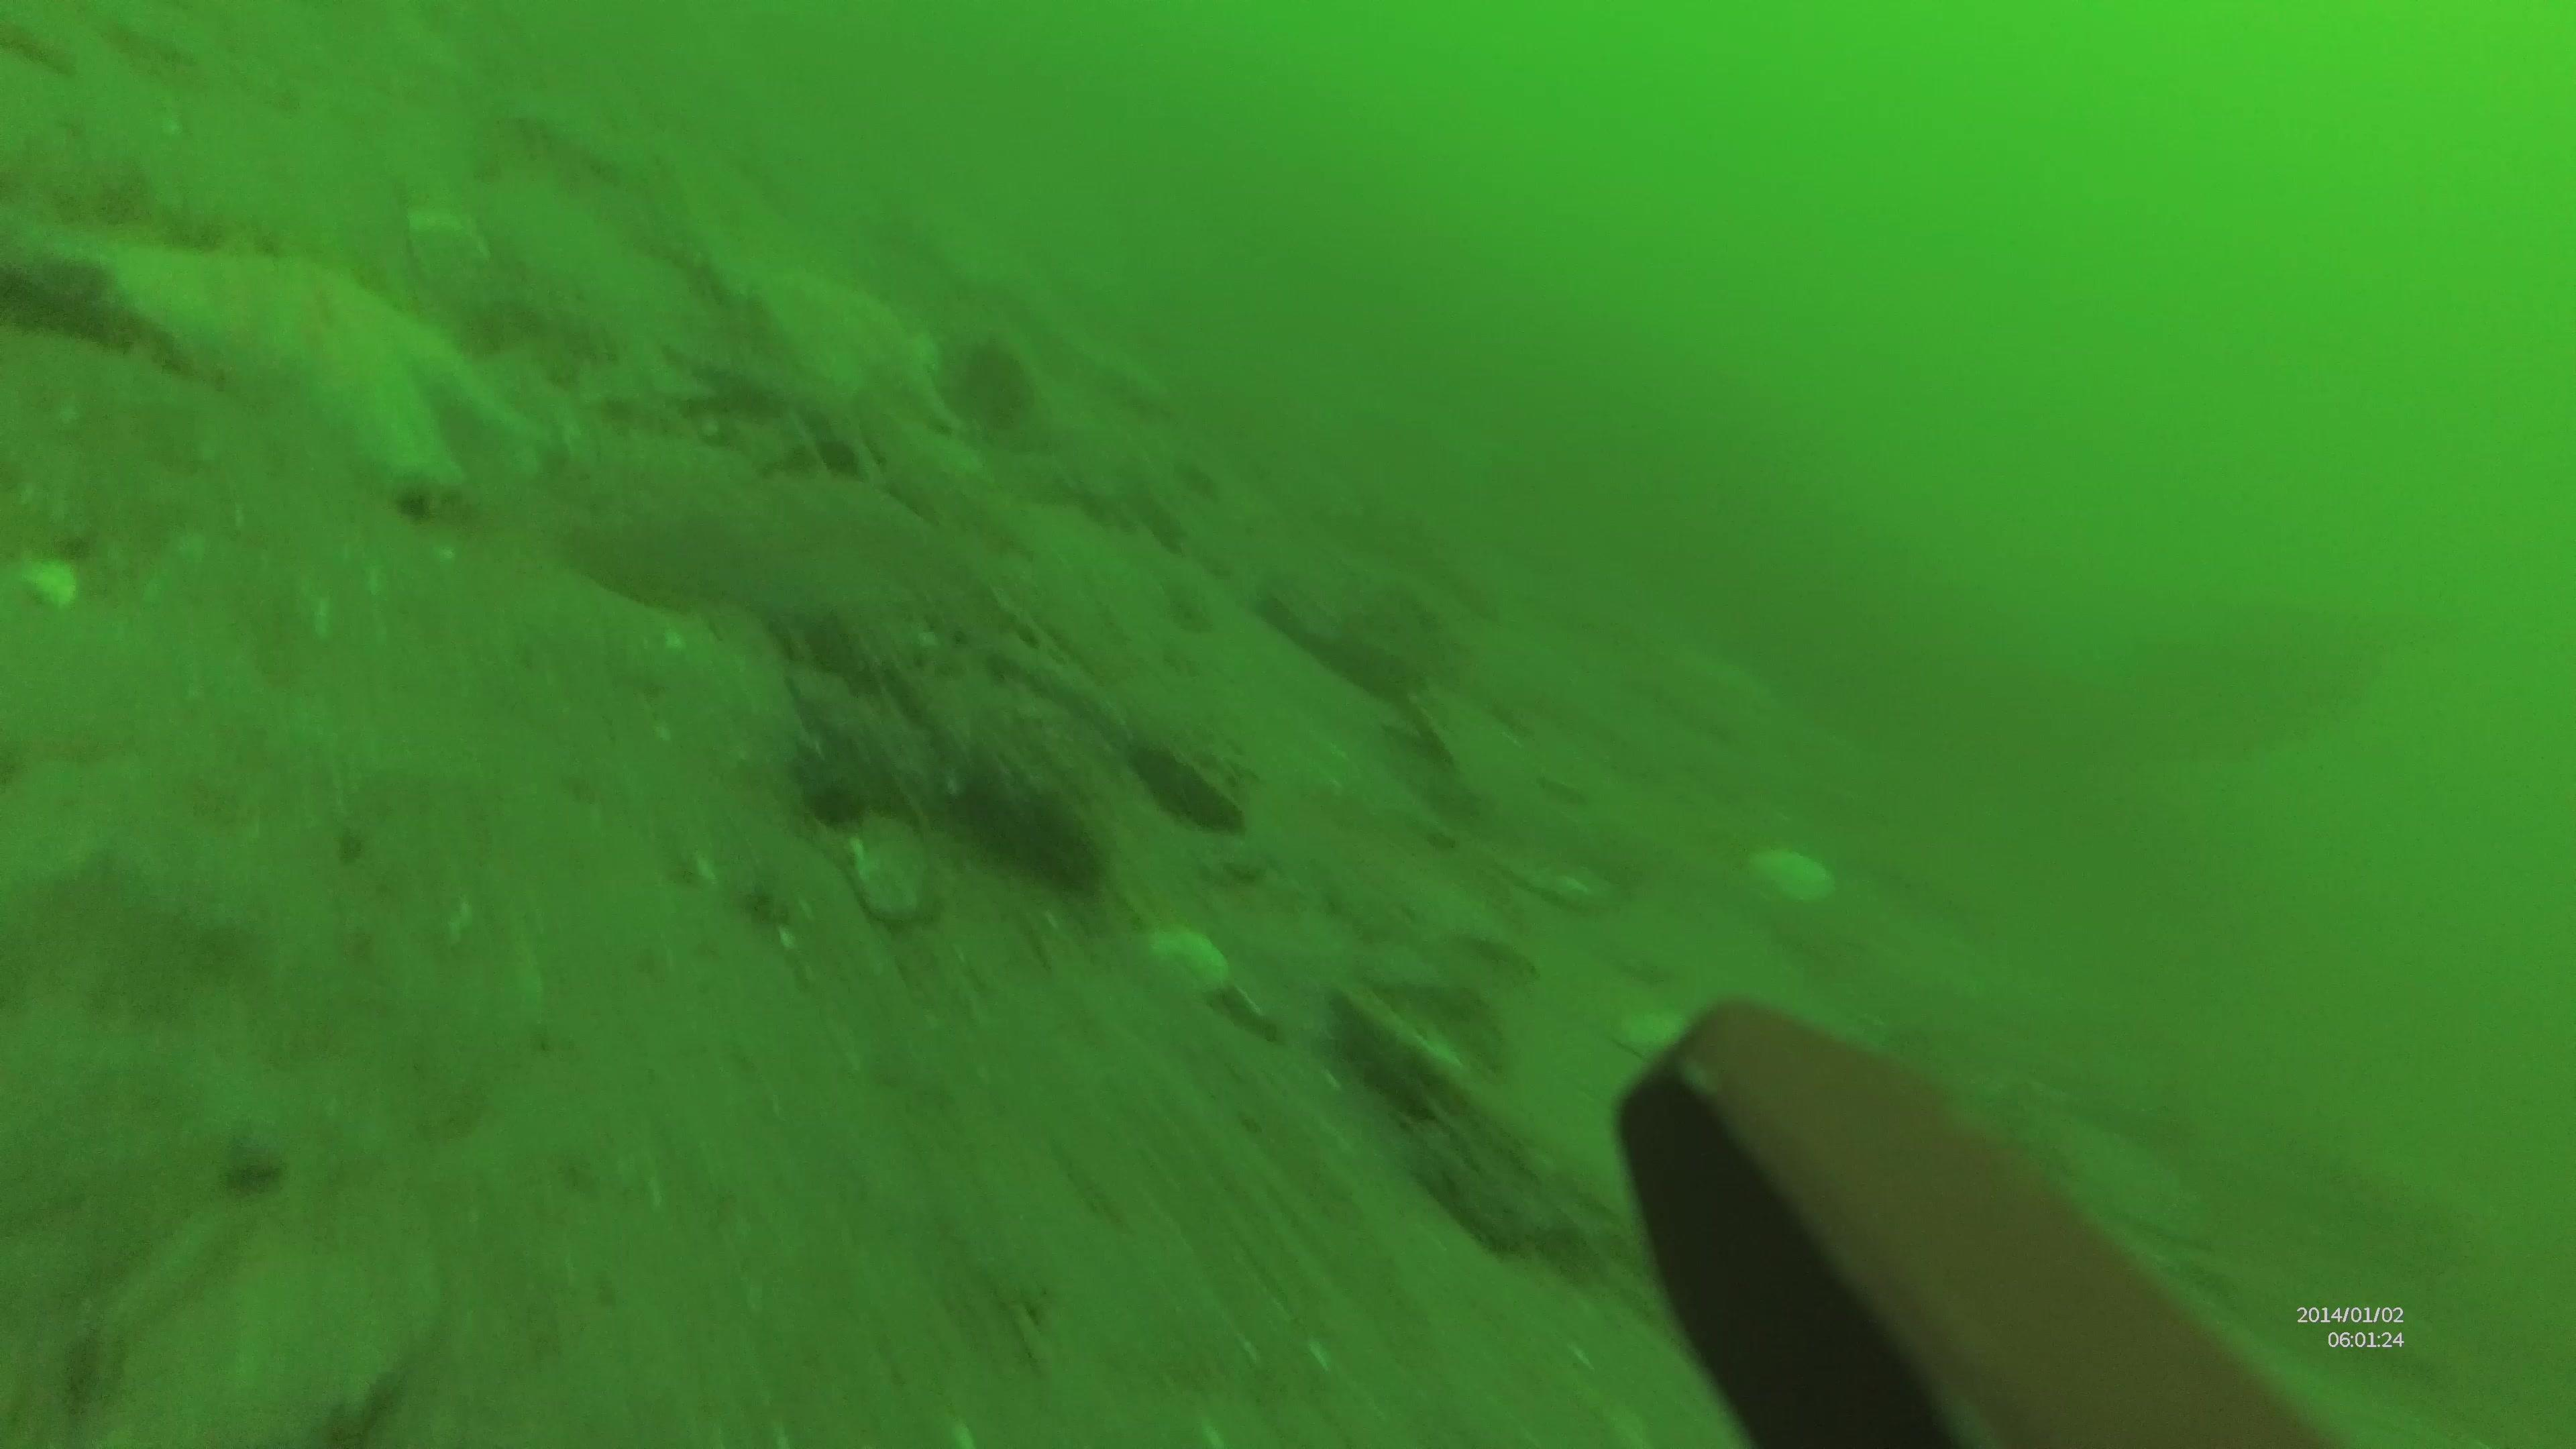echinus: (950, 343, 1035, 433), (9, 251, 110, 320)
starfish: (92, 212, 538, 506)
